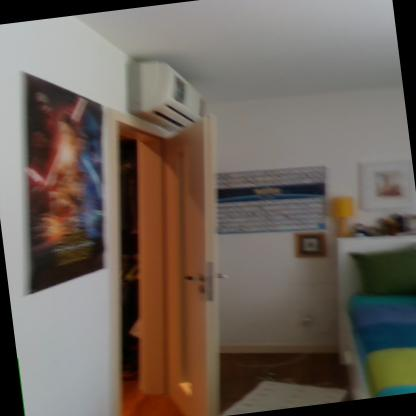semi: (92, 87, 243, 415)
